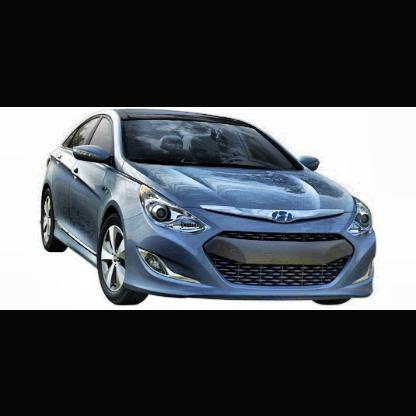Hyundai Sonata Hybrid Sedan 2012: (41, 110, 377, 306)
